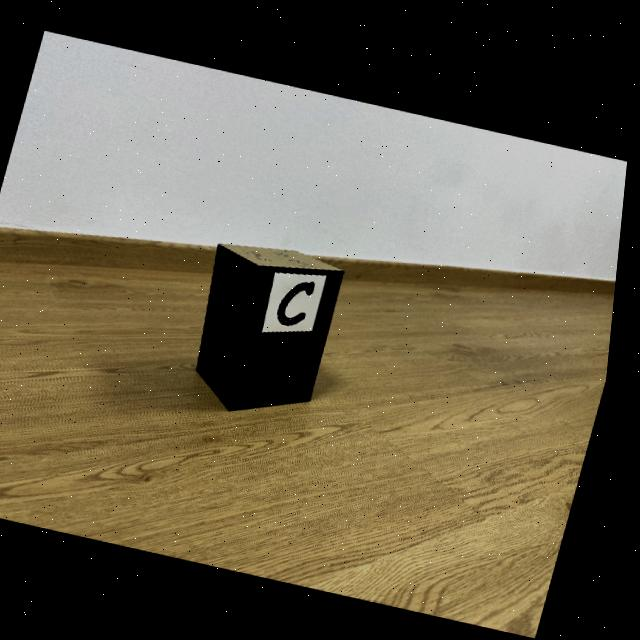C: (283, 278, 320, 323)
